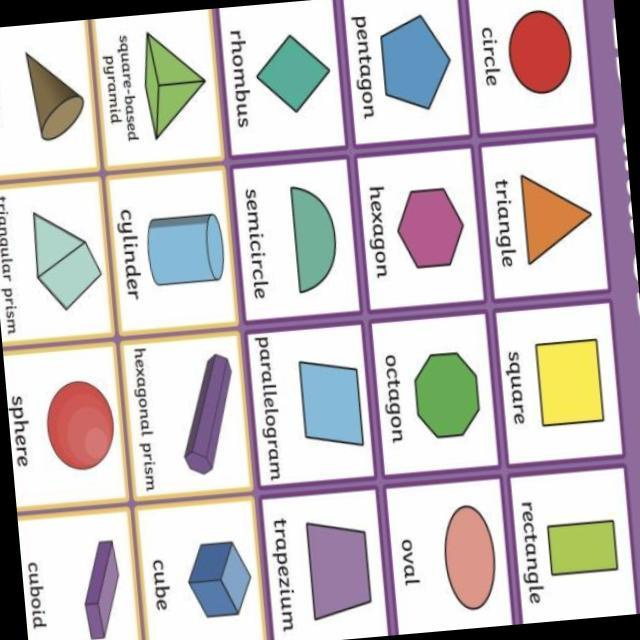circle: (488, 0, 587, 110), (43, 361, 132, 482), (428, 496, 505, 610)
square: (518, 323, 619, 443), (545, 497, 640, 599)
triangle: (498, 153, 605, 282)
